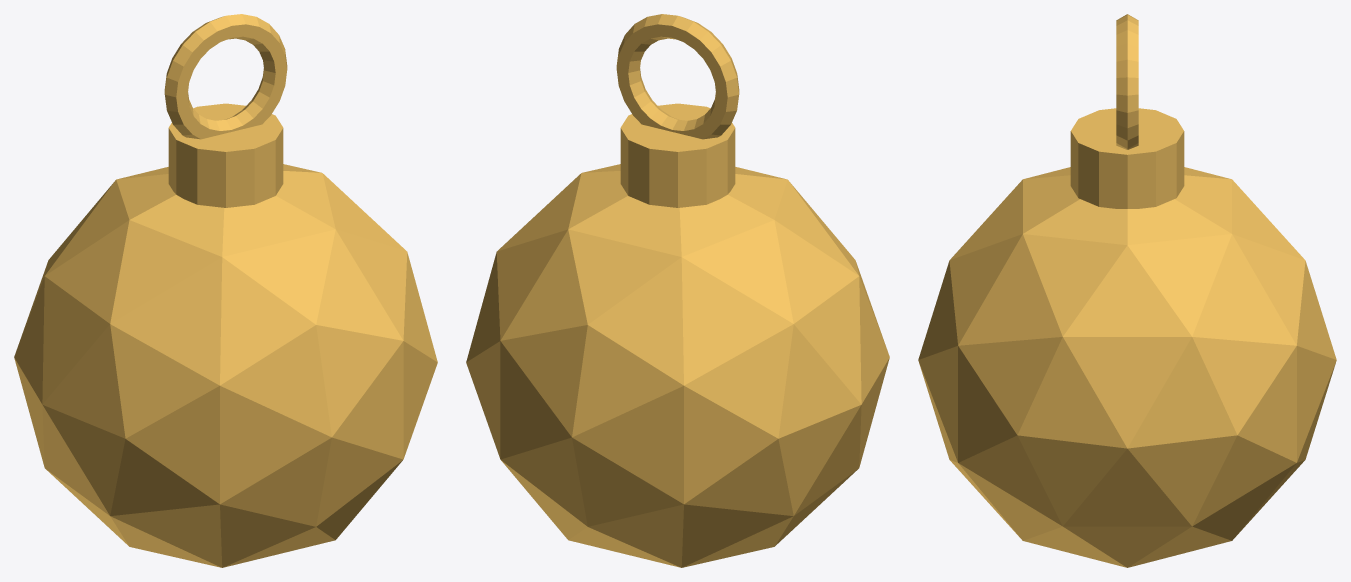
The model's file is north-pole-village-gold-bauble-2dc53fb5__25432.glb.
3 views of the same model, side by side, from view 1: azimuth 30°, elevation 25°; view 2: azimuth 150°, elevation 25°; view 3: azimuth 270°, elevation 25° (orthographic).
Parts seen in each view (by area): view 1: gold-bauble; view 2: gold-bauble; view 3: gold-bauble.
Part boxes in pixels (x1,y1,x2,y2): gold-bauble: [14, 14, 437, 567]; gold-bauble: [466, 14, 889, 567]; gold-bauble: [918, 14, 1336, 567].
Size of the model in its own units: 0.48 by 0.67 by 0.48.
